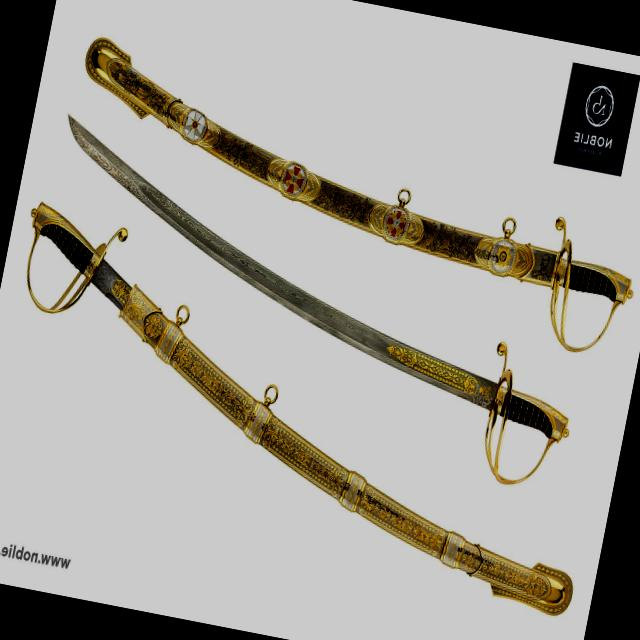long sword: (0, 197, 628, 622), (15, 116, 607, 496)
